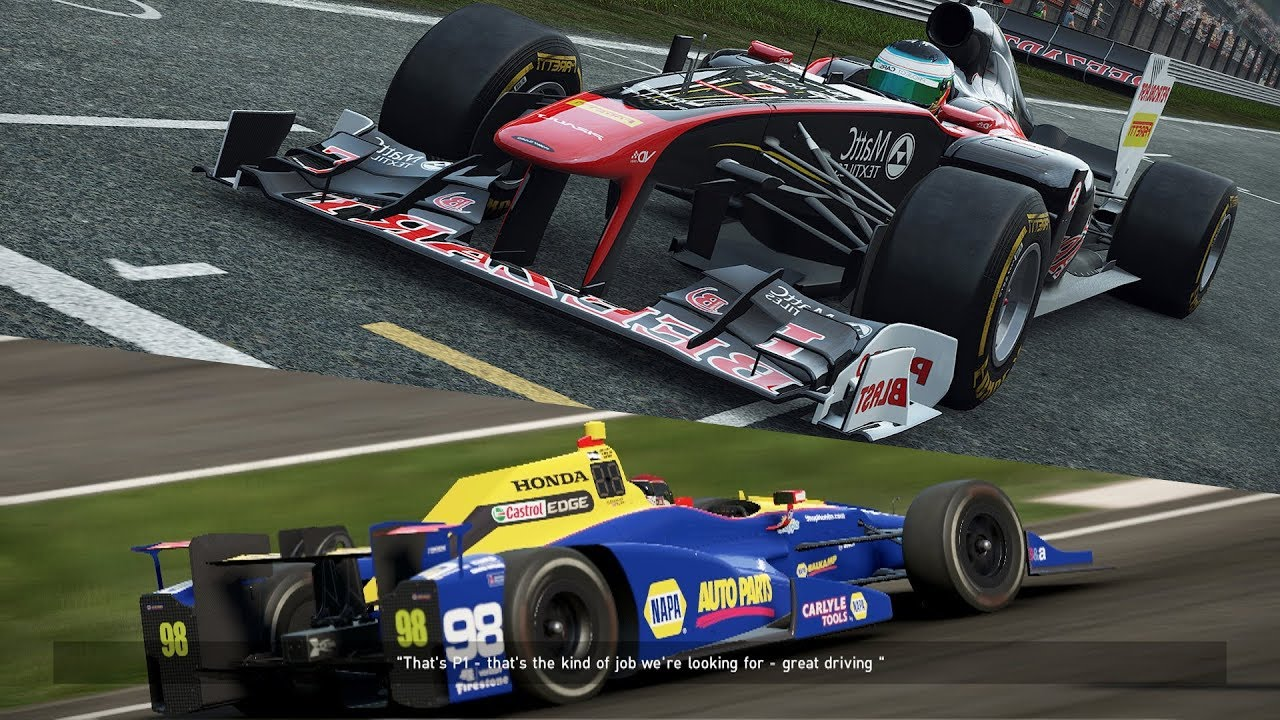f1_car: (185, 1, 1251, 455), (120, 405, 1148, 720)
helmet: (864, 30, 965, 127)
